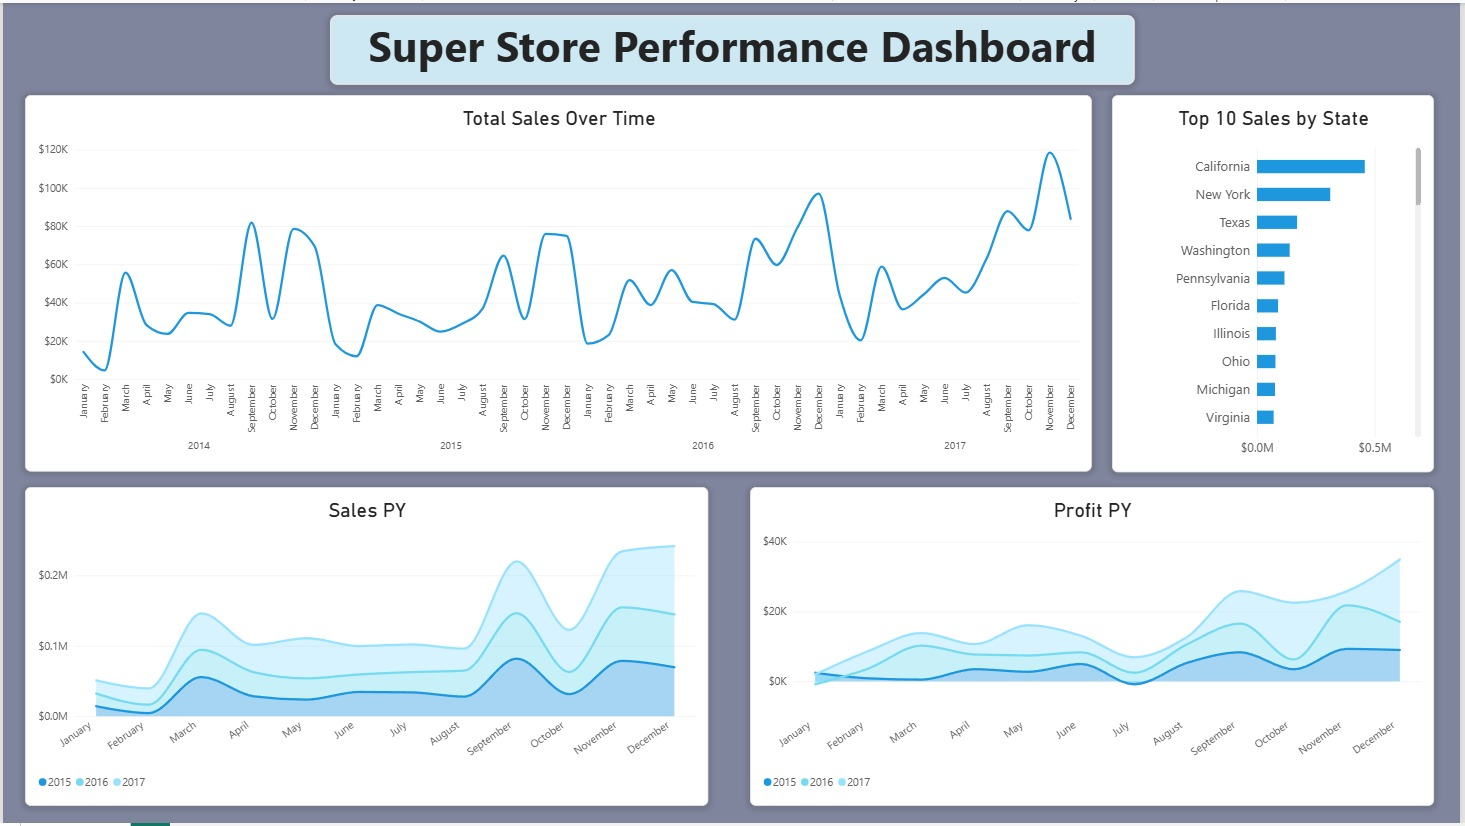

The dashboard page shown, as its layout file describes it:
{"tool":"powerbi","page":{"name":"Performance","canvas":[1920,1080],"ordinal":1},"visuals":[{"type":"stackedAreaChart","title":"Profit PY","fields":{"Category":["DimDate.Month Name"],"Series":["DimDate.Year"],"Y":["_Measures.Profit PY"]},"box":[983.9,637.5,900.9,420],"z":0},{"type":"stackedAreaChart","title":"Sales PY","fields":{"Category":["DimDate.Date Hierarchy.Month Name"],"Series":["DimDate.Year"],"Y":["_Measures.Sales PY"]},"box":[29,637.5,900,420],"z":1000},{"type":"barChart","title":"Top 10 Sales by State","fields":{"Category":["DimLocation.State"],"Y":["_Measures.Total Sales"]},"box":[1460.6,121.2,424.1,496.5],"z":2000},{"type":"lineChart","title":"Total Sales Over Time","fields":{"Category":["DimDate.Date Hierarchy.Year","DimDate.Date Hierarchy.Month Name"],"Y":["_Measures.Total Sales"]},"box":[29.1,121.7,1405.3,496.2],"z":3000},{"type":"textbox","box":[430,15.9,1060.2,92.2],"z":4000}]}

Visuals, with their boxes in screenshot pixels (x1, y1, x2, y2), scaled from the page's 1920x1080 canvas onto the 1465x826 screenshot:
"Profit PY" stackedAreaChart: 751/488/1438/809
"Sales PY" stackedAreaChart: 22/488/709/809
"Top 10 Sales by State" barChart: 1114/93/1438/472
"Total Sales Over Time" lineChart: 22/93/1094/473
textbox: 328/12/1137/83
